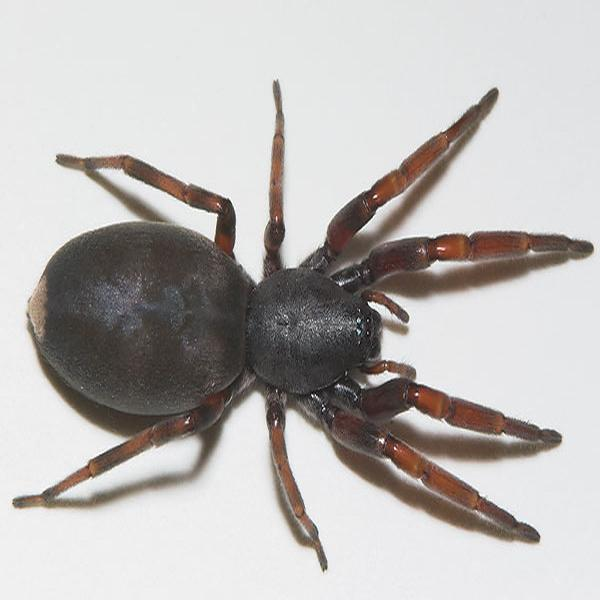White-Tailed Spider: (21, 85, 560, 541)
